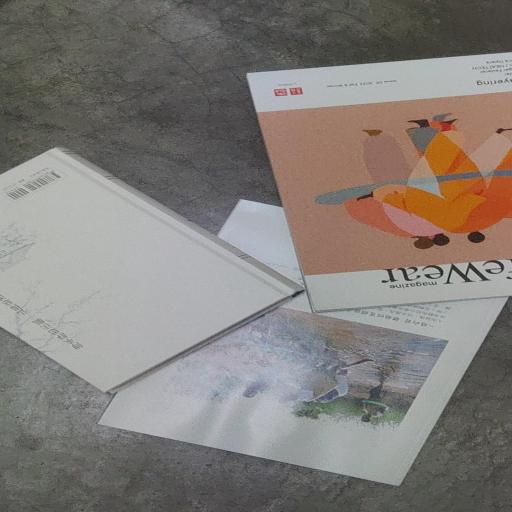paper: (0, 48, 512, 488)
